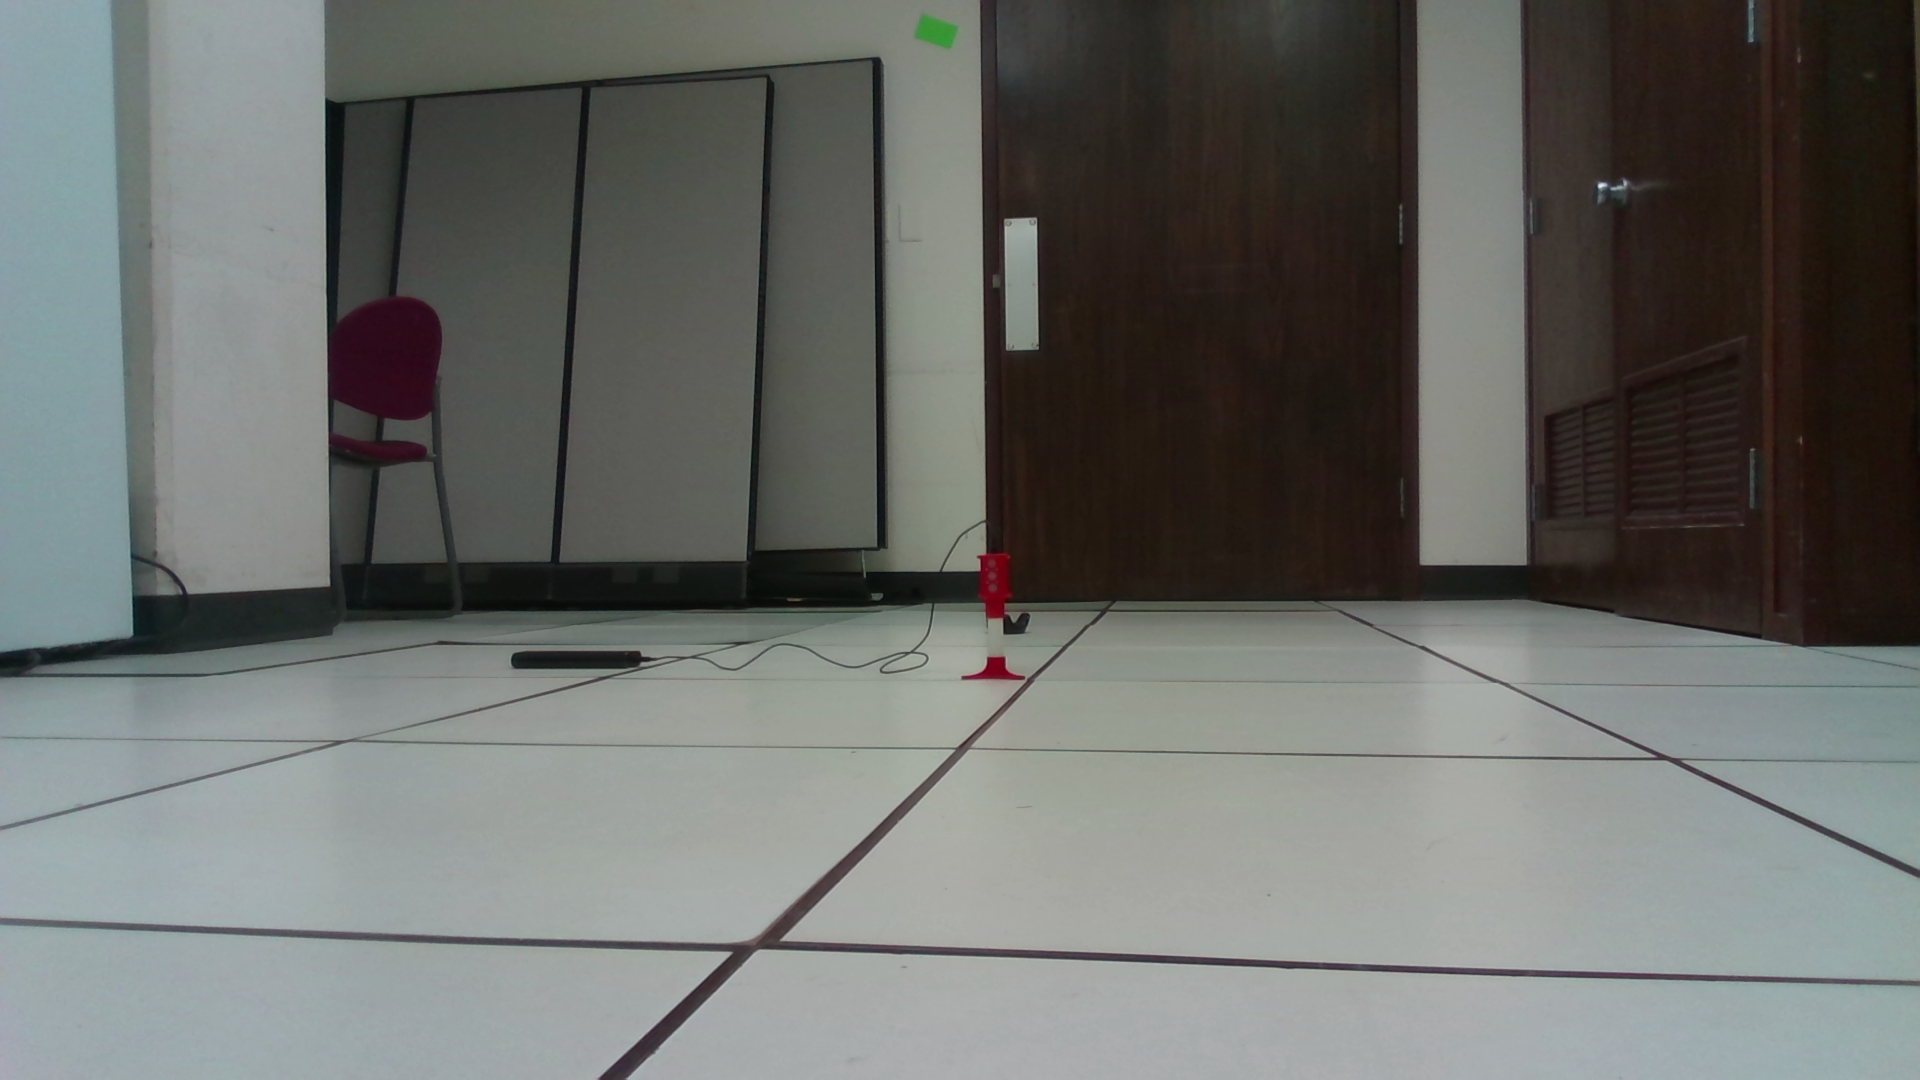stoplight: (980, 551, 1010, 616)
